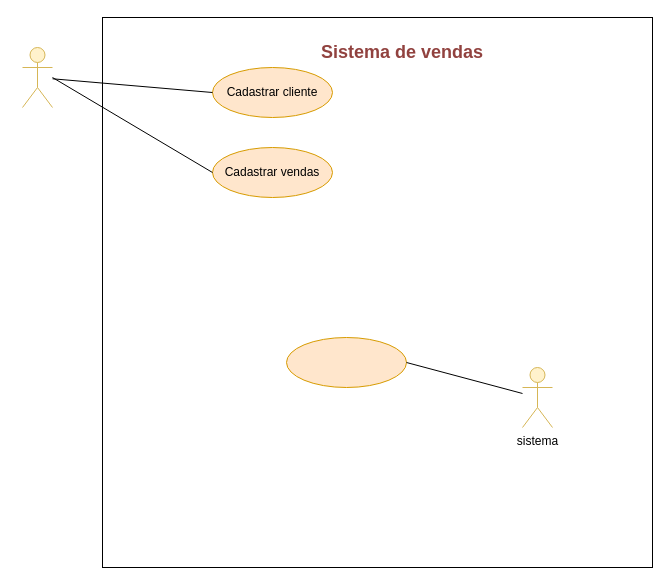
Some shapes in this 670 by 585 pixel diagram are drawn without their labels. Each missing label, with the centre of its shape:
Fazer backups: [346,362]
Usuario: [37,77]
